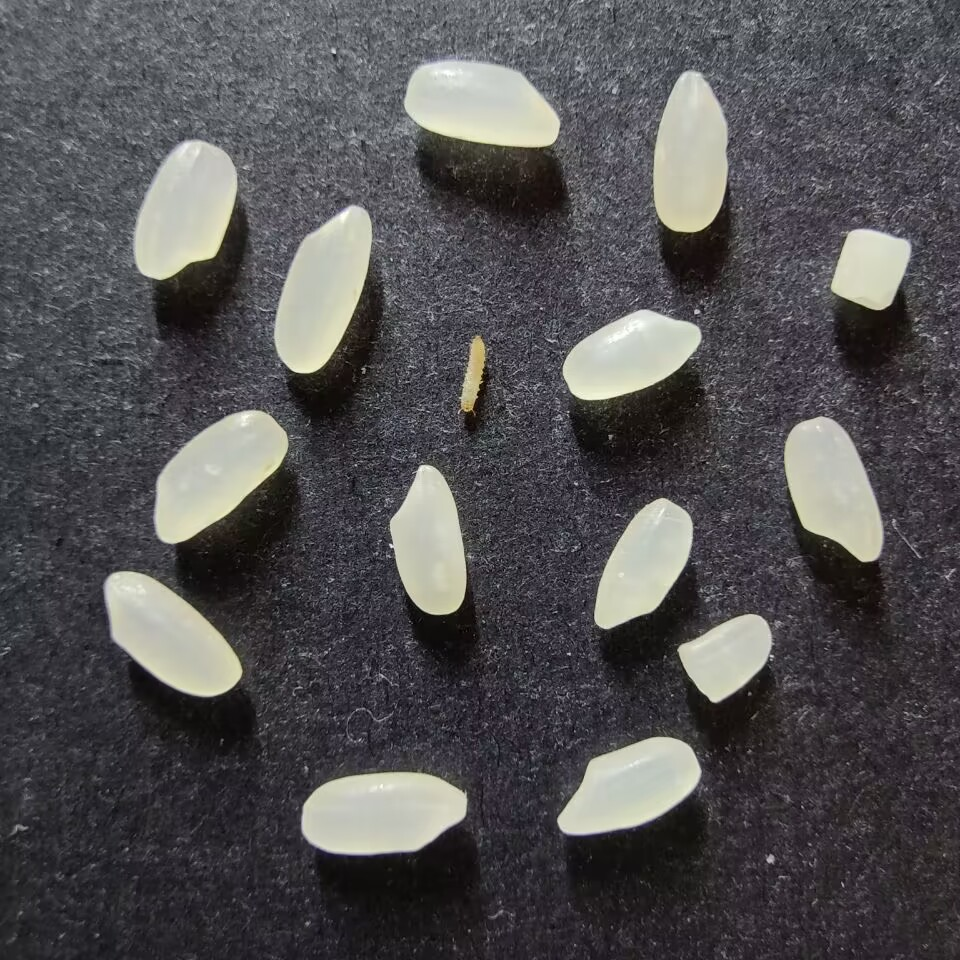broken: (677, 613, 771, 704), (829, 229, 911, 310)
others: (454, 334, 486, 418)
rice: (153, 409, 289, 543), (103, 570, 242, 697), (273, 205, 372, 374), (783, 416, 883, 563), (132, 140, 236, 279), (557, 736, 701, 835), (300, 771, 468, 855), (403, 60, 560, 148), (593, 497, 693, 629), (562, 308, 702, 400), (652, 70, 729, 233), (388, 464, 466, 615)
